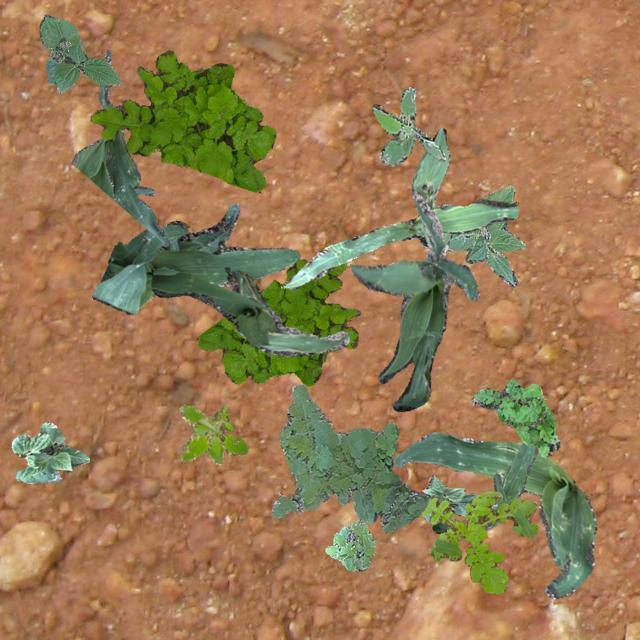crop: (392, 430, 596, 598), (348, 190, 478, 410), (90, 202, 298, 314), (282, 198, 518, 288), (70, 49, 168, 244), (150, 266, 348, 356), (431, 442, 536, 532), (446, 186, 524, 286), (39, 13, 120, 92), (410, 128, 450, 254), (11, 420, 88, 482), (422, 474, 476, 522)
weed: (90, 50, 274, 190), (272, 384, 442, 532), (196, 258, 360, 384), (419, 490, 536, 592), (469, 378, 558, 456), (372, 86, 444, 166), (178, 404, 248, 464), (324, 518, 374, 570)
